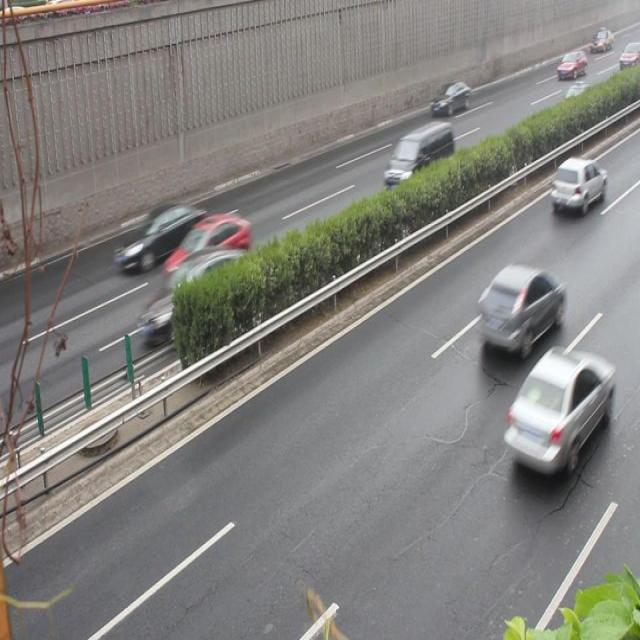car: (502, 345, 610, 472), (146, 248, 256, 342), (476, 263, 563, 350), (115, 199, 206, 273), (162, 212, 248, 285), (549, 157, 605, 214), (552, 83, 594, 124), (430, 80, 470, 121)
truck: (382, 121, 454, 192)
